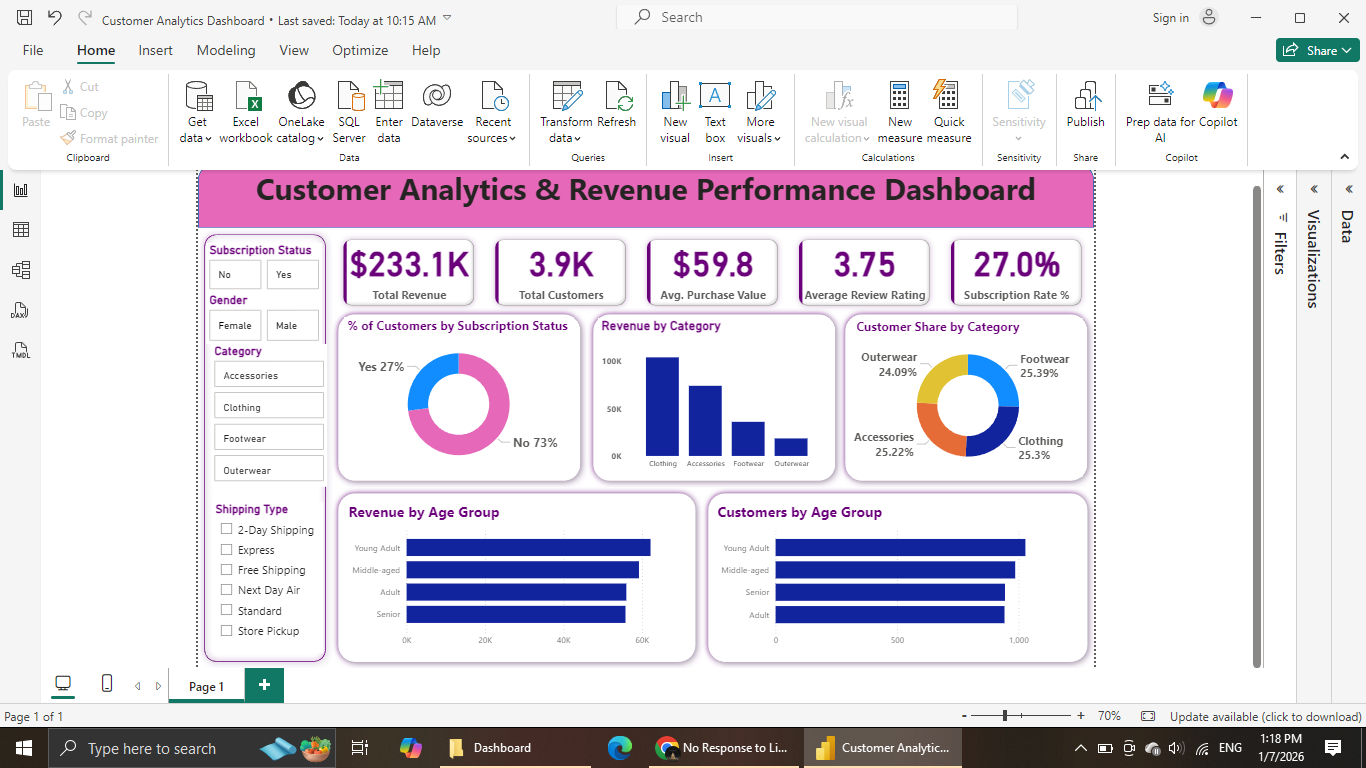

The page's visual inventory and layout, read from the dashboard file:
{"tool":"powerbi","page":{"name":"Page 1","canvas":[1280,720],"ordinal":0},"visuals":[{"type":"cardVisual","fields":{"Data":["public customer.Total Revenue","public customer.Number or Customers","public customer.Average Purchase Amount","public customer.Average Review Rating","public customer.Subscription Rate %"]},"box":[191,91.1,1088.8,127.8],"z":0},{"type":"shape","box":[0,0,1280,91.3],"z":1000},{"type":"textbox","box":[0,0,1279.8,77.9],"z":2000},{"type":"shape","box":[191.6,205.1,363.8,256],"z":3000},{"type":"donutChart","title":"% of Customers by Subscription Status","fields":{"Y":["CountNonNull(public customer.customer_id)"],"Category":["public customer.subscription_status"]},"box":[208.7,218.9,327.7,226.3],"z":4000},{"type":"shape","box":[191.6,461.1,528.5,259],"z":5000},{"type":"shape","box":[916.2,205.1,363.8,256],"z":6000},{"type":"shape","box":[555.4,205.1,363.8,256],"z":7000},{"type":"shape","box":[720.1,461.1,559.9,259],"z":8000},{"type":"clusteredColumnChart","title":"Revenue by Category","fields":{"Y":["Sum(public customer.purchase_amount)"],"Category":["public customer.category"]},"box":[571.9,220.1,330.9,226.1],"z":9000},{"type":"donutChart","title":"Customer Share by Category","fields":{"Category":["public customer.category"],"Y":["public customer.Revenue per Customer"]},"box":[935,219.4,328.3,227],"z":10000},{"type":"shape","box":[0,91.3,191.6,628.8],"z":11000},{"type":"advancedSlicerVisual","fields":{"Values":["public customer.subscription_status"]},"box":[12,112.3,166.2,71.9],"z":12000},{"type":"advancedSlicerVisual","fields":{"Values":["public customer.gender"]},"box":[12,184.1,166.2,73.4],"z":13000},{"type":"advancedSlicerVisual","fields":{"Values":["public customer.category"]},"box":[19.1,257.1,166,204.2],"z":14000},{"type":"slicer","title":"Shipping Type","fields":{"Values":["public customer.shipping_type"]},"box":[19.5,483.6,158.7,215.6],"z":15000},{"type":"clusteredBarChart","title":"Revenue by Age Group","fields":{"Y":["Sum(public customer.purchase_amount)"],"Category":["public customer.age_group"]},"box":[209.6,483.6,495.5,215.6],"z":16000},{"type":"clusteredBarChart","title":"Customers by Age Group","fields":{"Y":["CountNonNull(public customer.customer_id)"],"Category":["public customer.age_group"]},"box":[737.6,483.4,524.6,216],"z":17000}]}

Visuals, with their boxes on the page's 1280x720 design canvas (x1, y1, x2, y2). These are canvas units, not pixel positions in the 1366x768 screenshot, which may show the page scaled, cropped or inside an application window:
cardVisual - public customer.Total Revenue x public customer.Number or Customers: bbox=(191, 91, 1280, 219)
shape: bbox=(0, 0, 1280, 91)
textbox: bbox=(0, 0, 1280, 78)
shape: bbox=(192, 205, 555, 461)
"% of Customers by Subscription Status" donutChart: bbox=(209, 219, 536, 445)
shape: bbox=(192, 461, 720, 720)
shape: bbox=(916, 205, 1280, 461)
shape: bbox=(555, 205, 919, 461)
shape: bbox=(720, 461, 1280, 720)
"Revenue by Category" clusteredColumnChart: bbox=(572, 220, 903, 446)
"Customer Share by Category" donutChart: bbox=(935, 219, 1263, 446)
shape: bbox=(0, 91, 192, 720)
advancedSlicerVisual - public customer.subscription_status: bbox=(12, 112, 178, 184)
advancedSlicerVisual - public customer.gender: bbox=(12, 184, 178, 258)
advancedSlicerVisual - public customer.category: bbox=(19, 257, 185, 461)
"Shipping Type" slicer: bbox=(20, 484, 178, 699)
"Revenue by Age Group" clusteredBarChart: bbox=(210, 484, 705, 699)
"Customers by Age Group" clusteredBarChart: bbox=(738, 483, 1262, 699)
